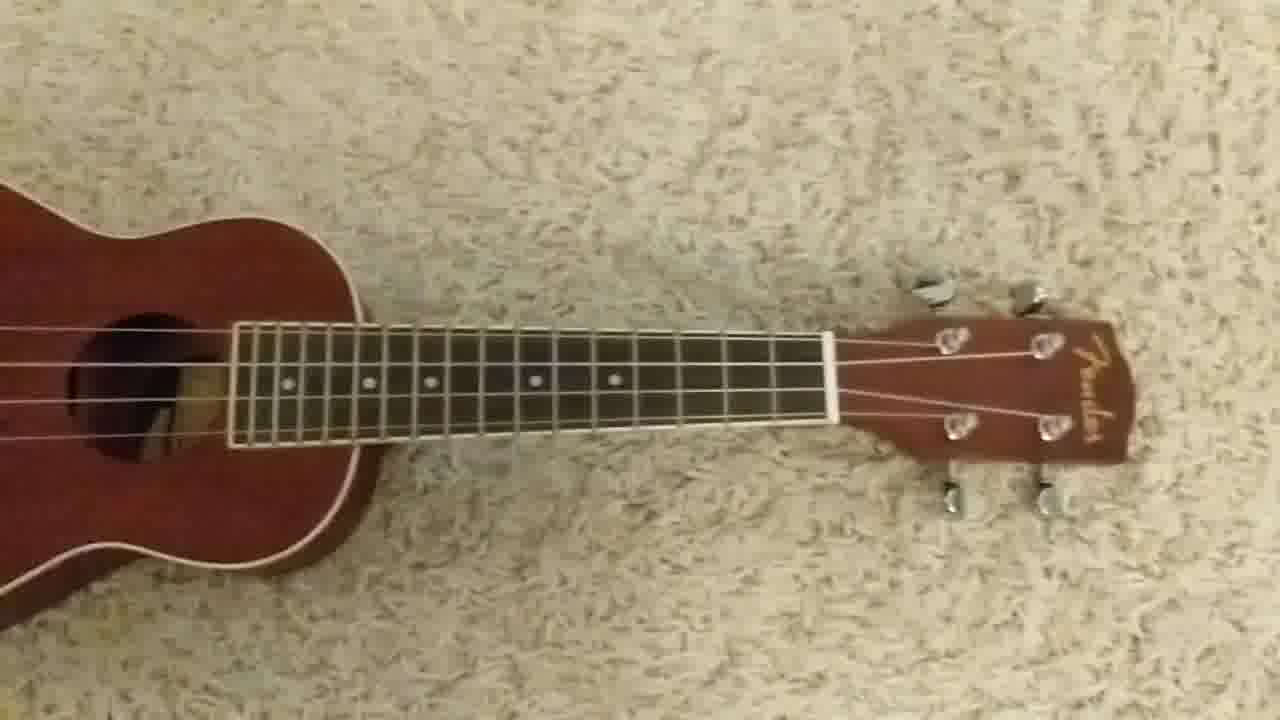Body: (1, 177, 377, 637)
Headstock: (837, 273, 1140, 520)
